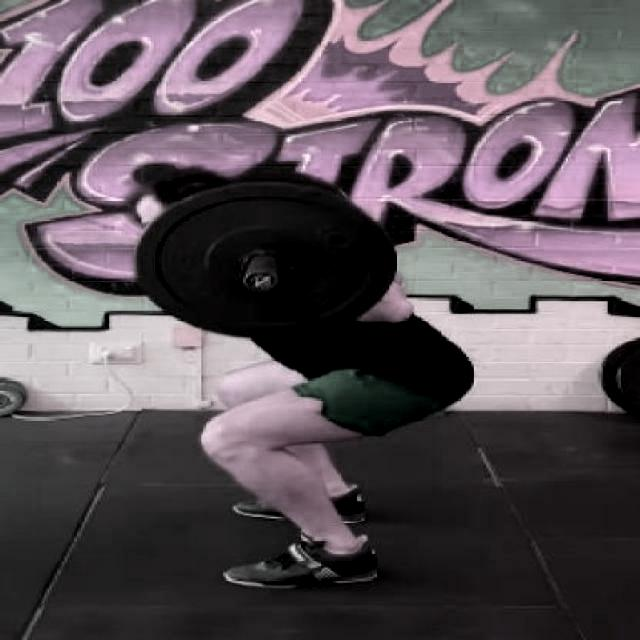barbell: (133, 180, 400, 345)
